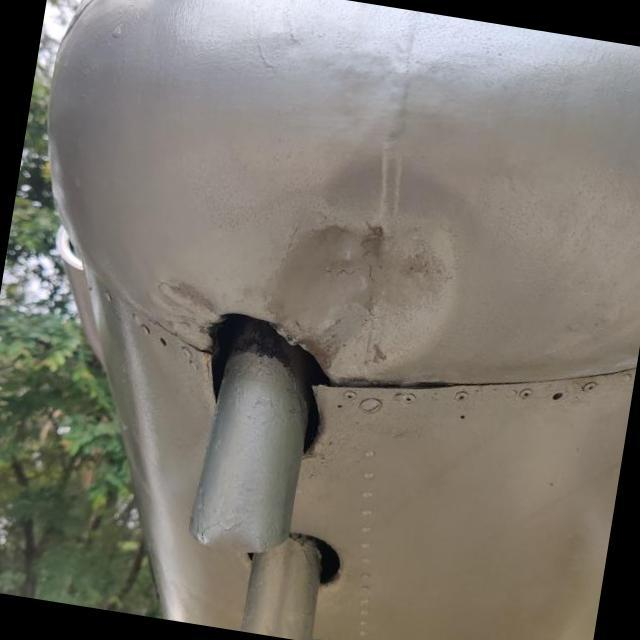Dent: (226, 158, 499, 416), (138, 256, 240, 340)
